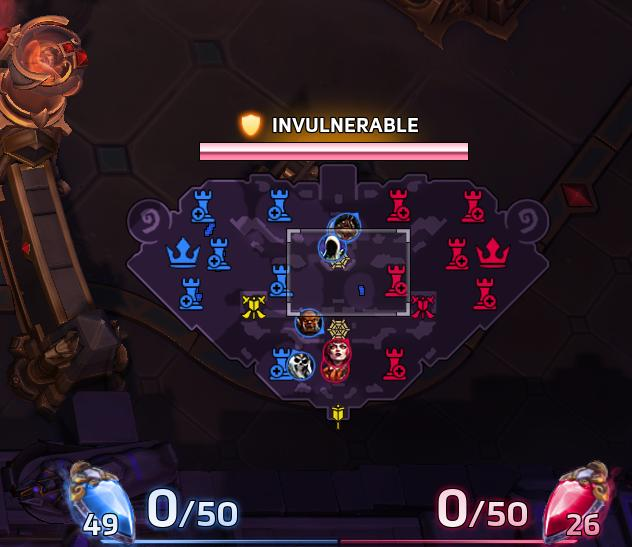blue nexus: (164, 235, 201, 268)
blue player: (328, 212, 361, 243), (285, 349, 315, 381), (318, 232, 346, 265), (294, 308, 323, 337)
blue tower: (206, 234, 231, 271), (266, 187, 292, 222), (178, 275, 204, 310), (190, 188, 215, 224), (268, 346, 293, 380), (268, 262, 292, 297)
red nexus: (474, 236, 510, 268)
red player: (322, 336, 351, 366), (320, 356, 350, 382)
red tower: (381, 346, 407, 381), (472, 276, 497, 311), (460, 188, 485, 223), (385, 187, 410, 222), (383, 263, 408, 297), (444, 236, 469, 270)
